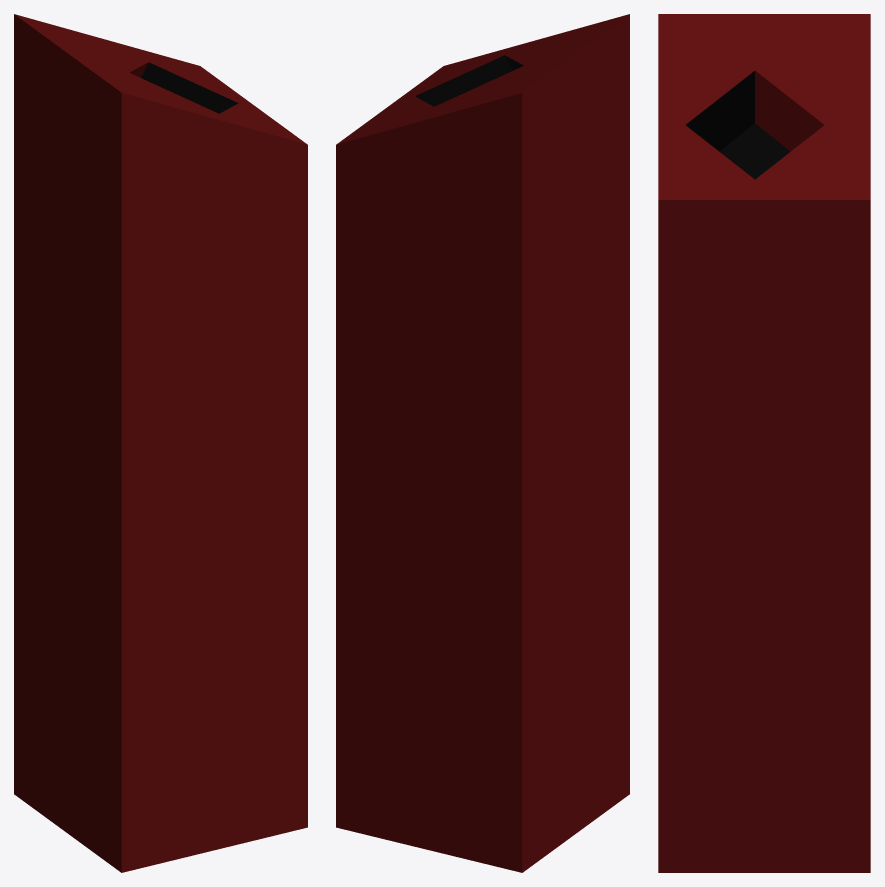
Rendered from rCubeConsole.gltf.
3 renders of one model, left to right at view 1: azimuth 30°, elevation 25°; view 2: azimuth 150°, elevation 25°; view 3: azimuth 270°, elevation 25°, orthographic.
Parts seen in each view (by area): view 1: Cube.005; view 2: Cube.005; view 3: Cube.005.
Part boxes in pixels (x1,y1,x2,y2): Cube.005: (14, 14, 307, 872); Cube.005: (336, 14, 629, 872); Cube.005: (658, 14, 870, 872).
Bounding box in the file's own units: 2 × 8 × 2.
